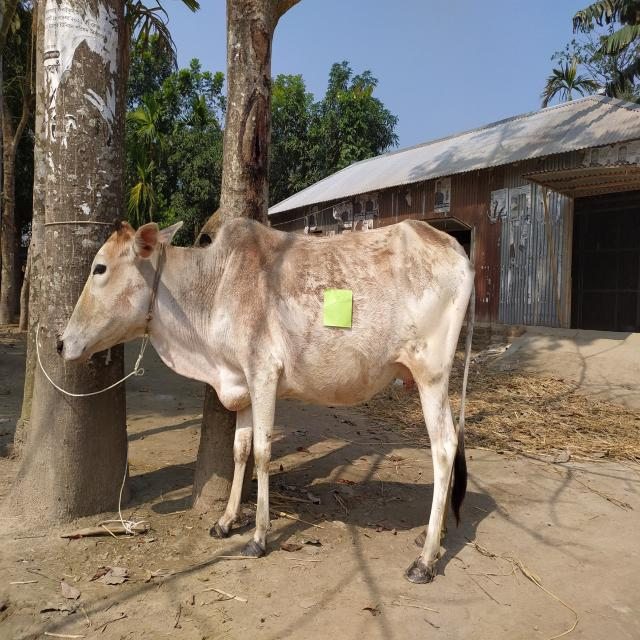badan_sapi: (235, 218, 463, 409)
sapi: (52, 216, 486, 594)
